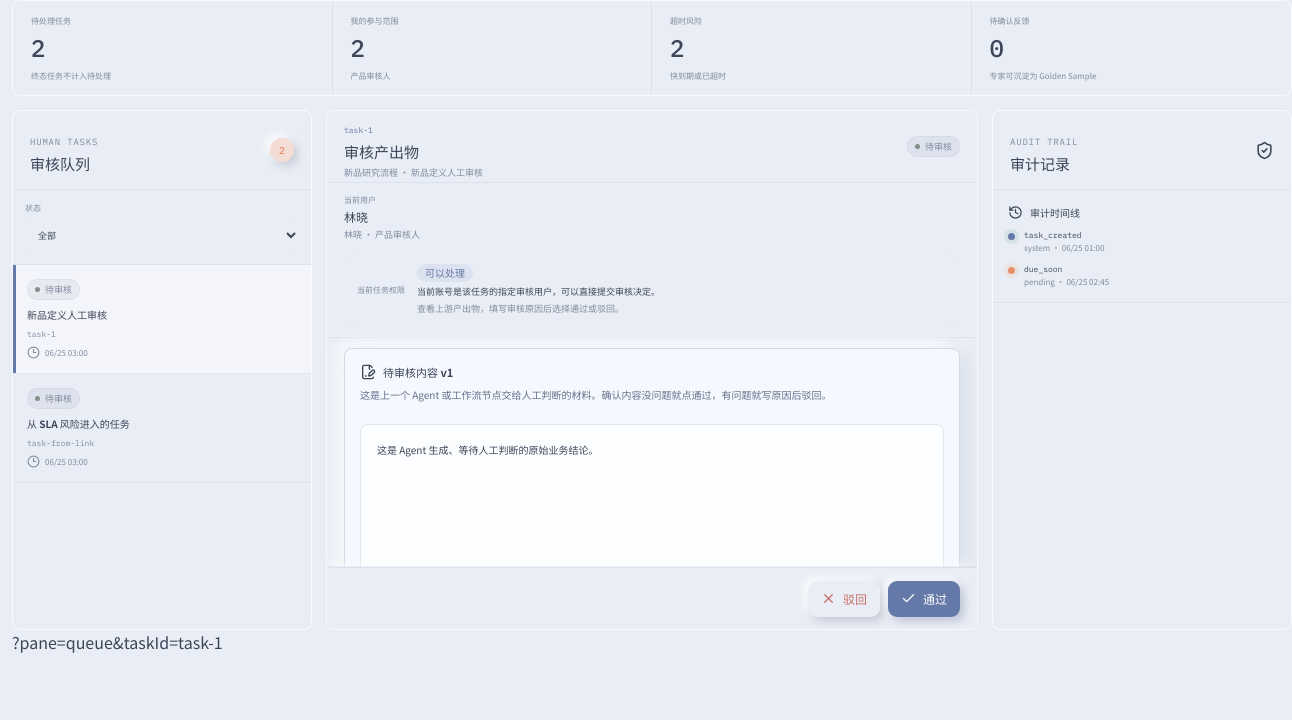
Test case: Reviews › syncs the selected human task to the URL while preserving existing query params
expect the text "这是 Agent 生成、等待人工判断的原始业务结论。" is shown: met, box [360,424,944,604]
Click the button "待审核 从 SLA 风险进入的任务 task-from-link 06/25 03:00" at [54, 398], box [13,374,311,483]
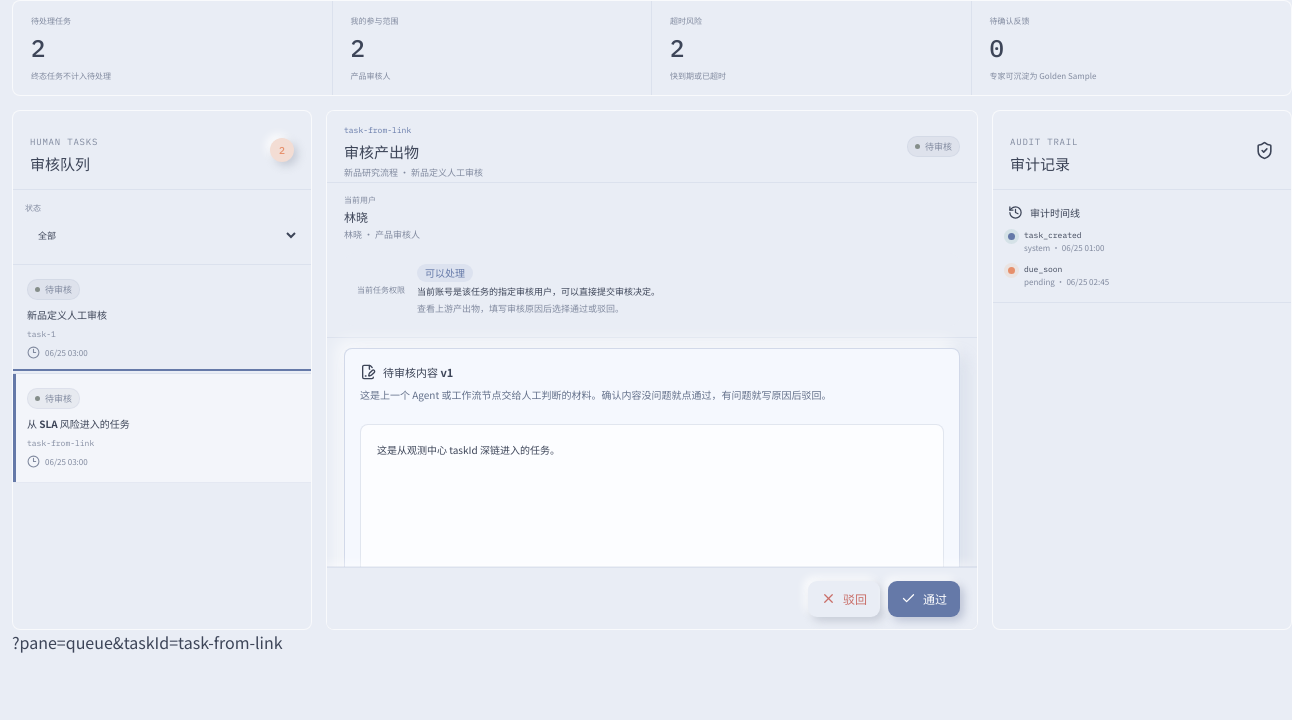
expect the text named "current search" reads "?pane=queue&taskId=task-from-link": met, box [12,630,283,654]
expect the text "这是从观测中心 taskId 深链进入的任务。" is shown: met, box [360,424,944,604]
